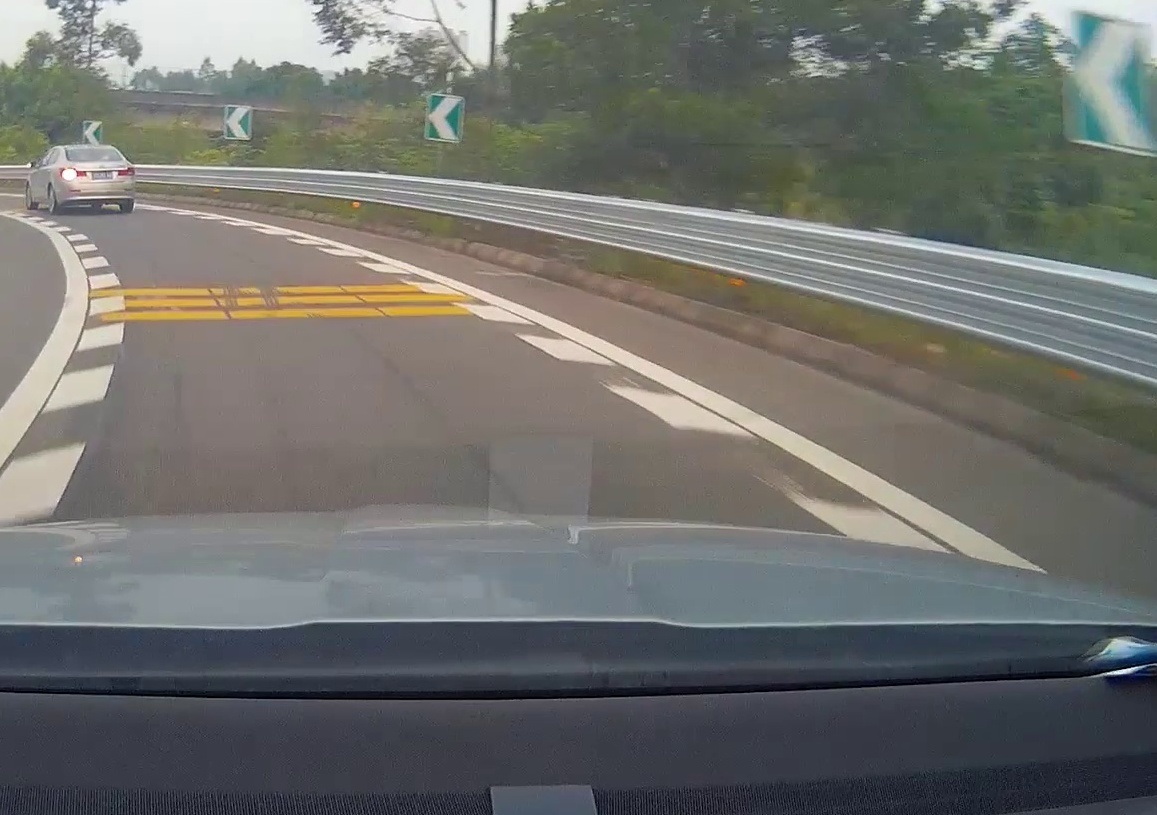L_light: (60, 168, 87, 180)
R_light: (118, 166, 135, 175)
T_light: (85, 149, 101, 151)
day-left: (56, 145, 136, 214)
